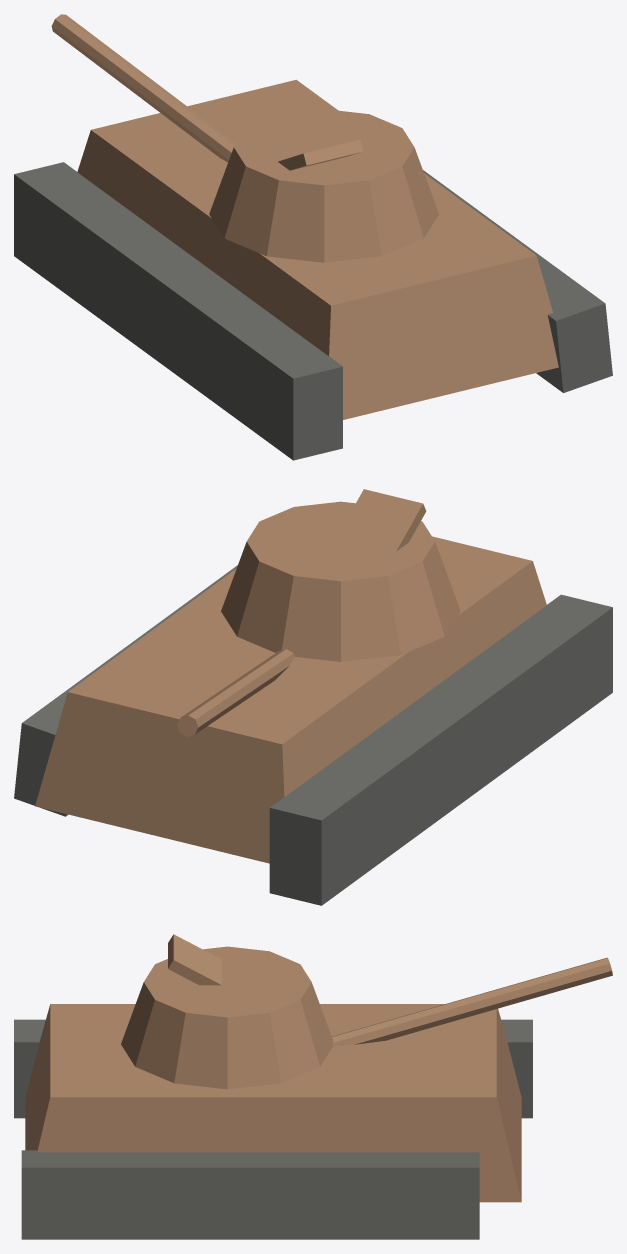
File: WreckedTank.fbx
The picture shows the model from 3 angles, top to bottom: view 1: azimuth 30°, elevation 25°; view 2: azimuth 150°, elevation 25°; view 3: azimuth 270°, elevation 25°; orthographic projection. The views are drawn at different scales.
Visible parts, largest first — view 1: WreckedTank_Mesh; view 2: WreckedTank_Mesh; view 3: WreckedTank_Mesh.
Part boxes in pixels (box(x1,y1,x2,y2)): WreckedTank_Mesh: box(14, 14, 612, 460); WreckedTank_Mesh: box(14, 489, 612, 905); WreckedTank_Mesh: box(14, 934, 612, 1239).
Bounding box in the file's own units: 4.55 × 7.85 × 3.
